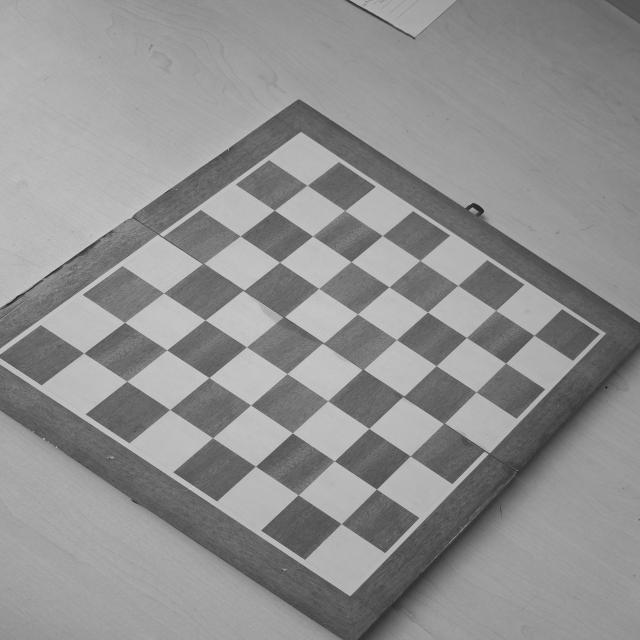chess-table-corners: (332, 578, 363, 600), (288, 128, 316, 148), (0, 344, 22, 368), (586, 324, 612, 342)
